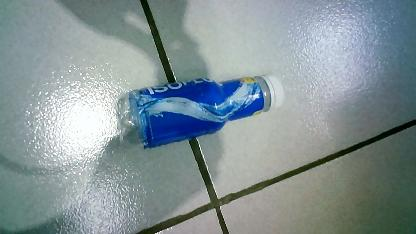Plastic Bottle: (105, 42, 311, 164)
